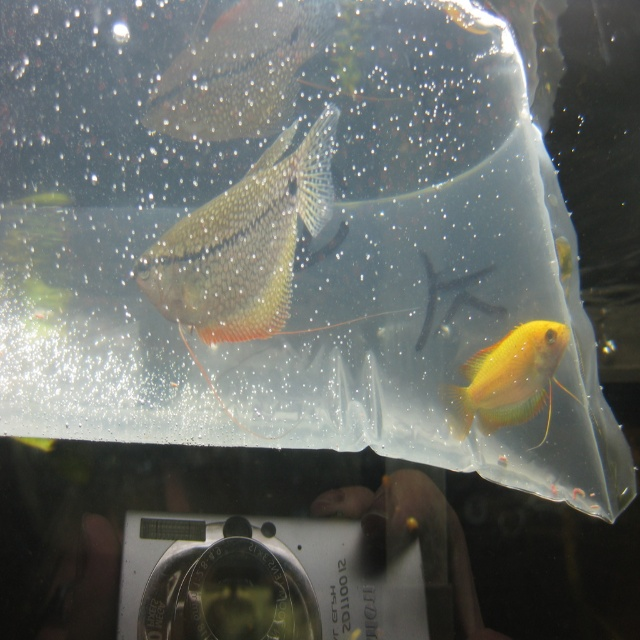Fish: (126, 104, 336, 348), (440, 318, 585, 441)
